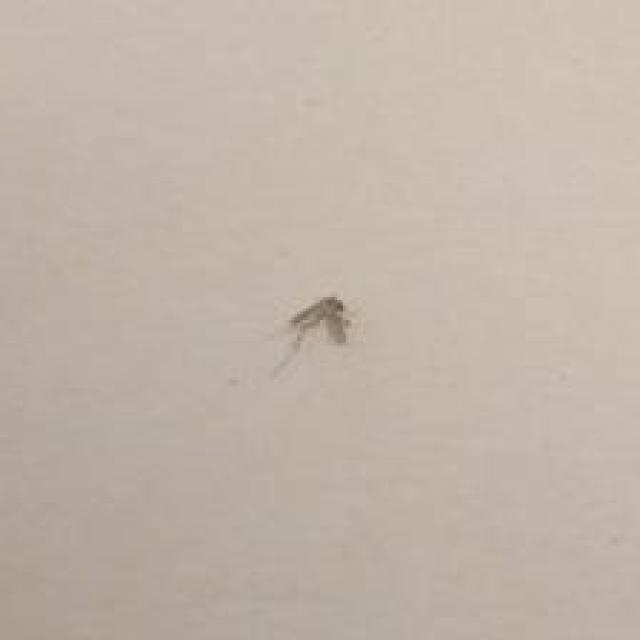Culex: (267, 293, 353, 378)
